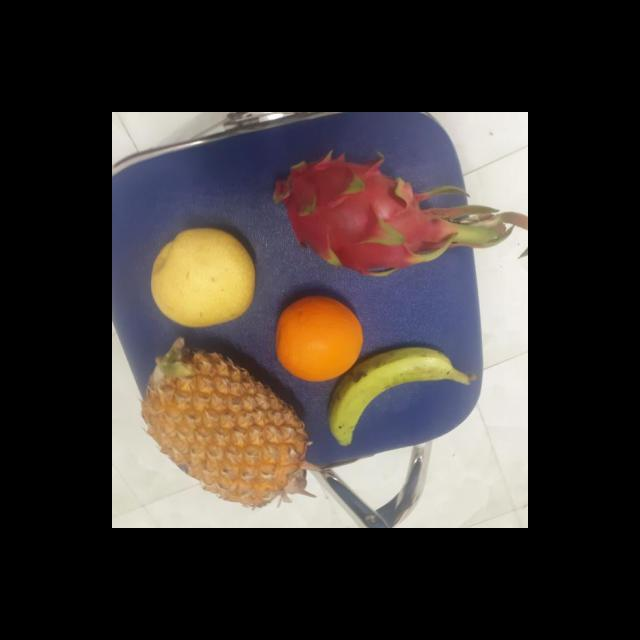banana: (324, 342, 456, 448)
orange: (274, 292, 365, 386)
pear: (150, 227, 256, 331)
pineapple: (142, 350, 304, 514)
pitaya: (277, 159, 435, 276)
